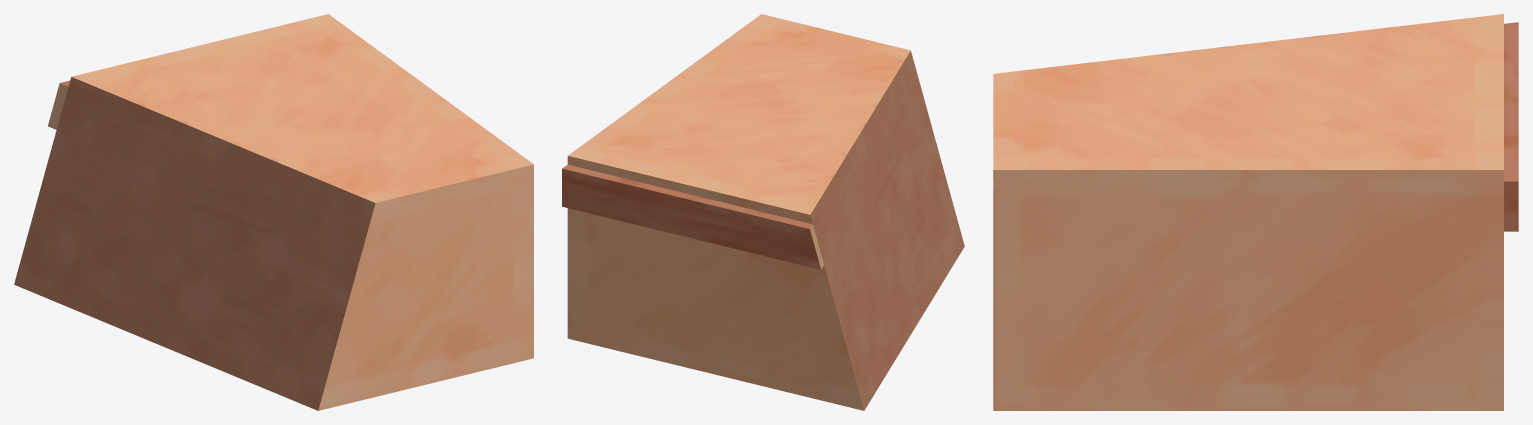
The model's file is divan_s00.fbx.
The picture shows the model from 3 angles, left to right: view 1: azimuth 30°, elevation 25°; view 2: azimuth 150°, elevation 25°; view 3: azimuth 270°, elevation 25°; orthographic projection. The views are drawn at different scales.
Parts seen in each view (by area): view 1: divan_s00; view 2: divan_s00; view 3: divan_s00.
Part boxes in pixels (x1,y1,x2,y2): divan_s00: [14, 14, 533, 410]; divan_s00: [562, 14, 964, 410]; divan_s00: [993, 14, 1518, 410].
Size of the model in its own units: 2.12 by 1.25 by 2.47.
